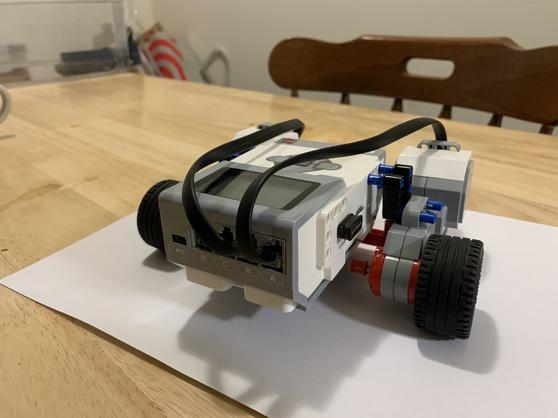robot: (135, 94, 506, 352)
